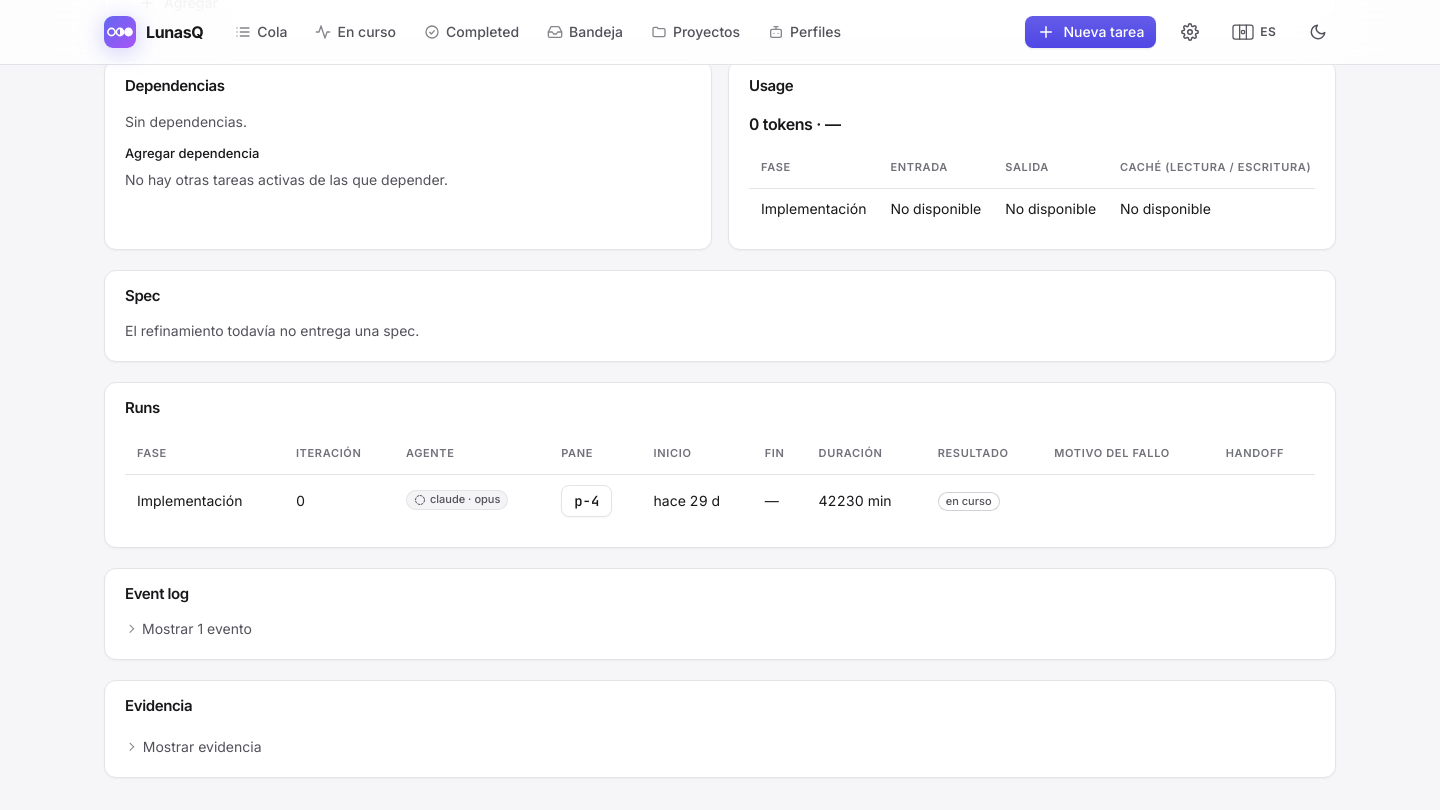
Test: API errors in the UI › a known code is shown with the Spanish dictionary text
(page scrolled)
Click the button "p-4" at coordinates (587, 500), box [561,484,612,516]
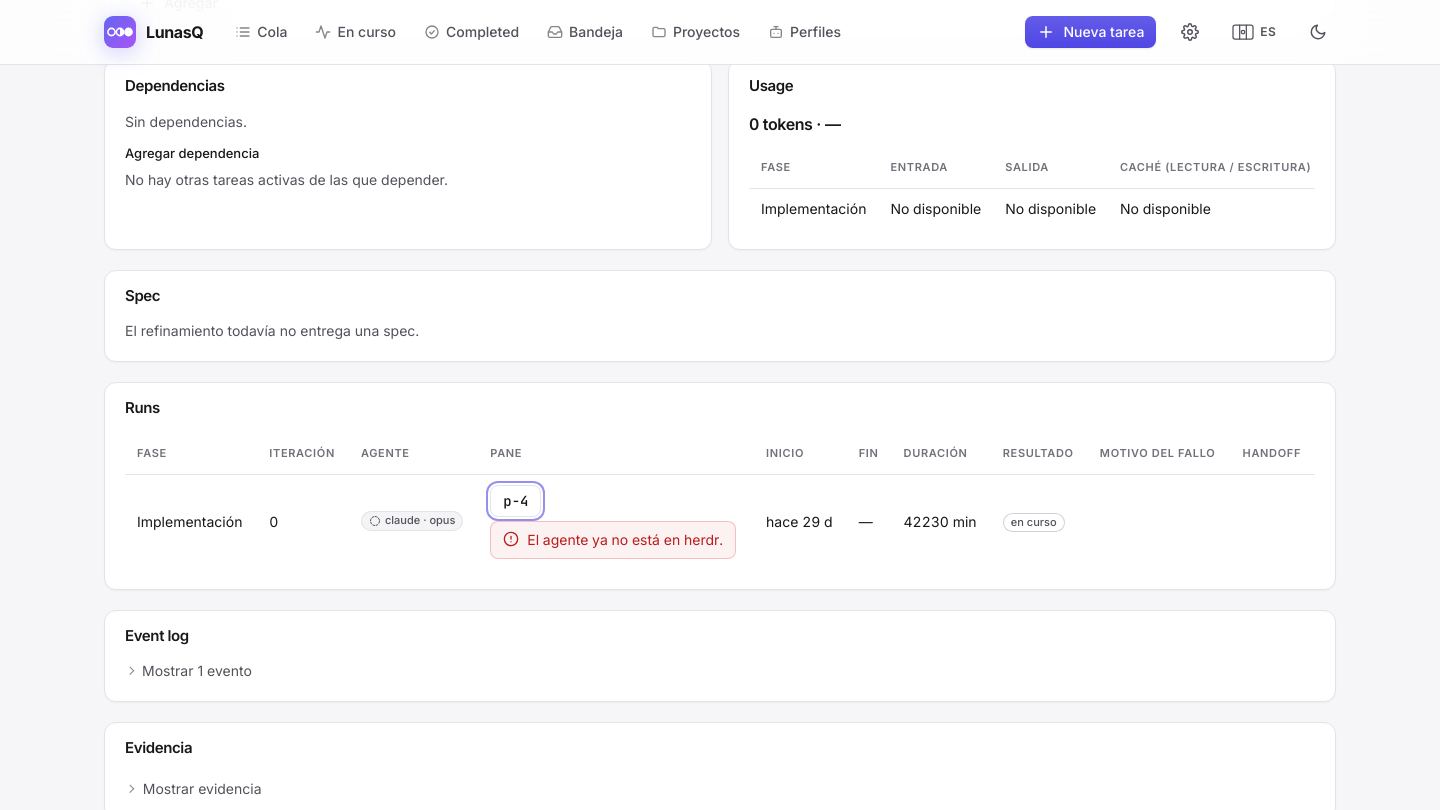
Expected: the message reads "El agente ya no está en herdr.", [527,530,723,548]
